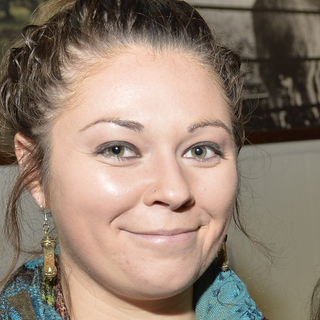eye: (88, 138, 147, 164), (178, 136, 226, 166)
